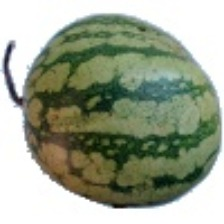watermelon: (36, 15, 205, 169)
